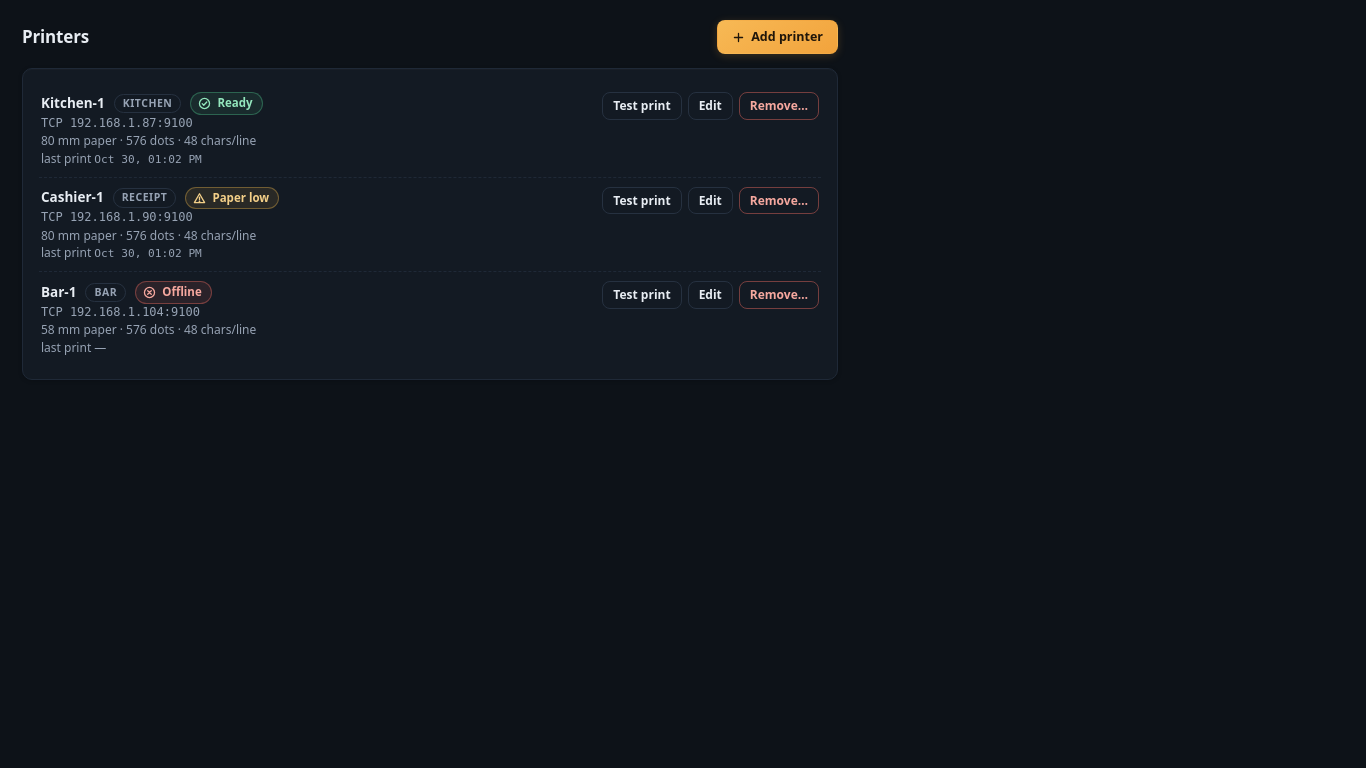
it: PrintersScreen › removes a printer after confirmation
Click the button "Remove…" in the row of "Kitchen-1" at (779, 106), box [739, 92, 819, 120]
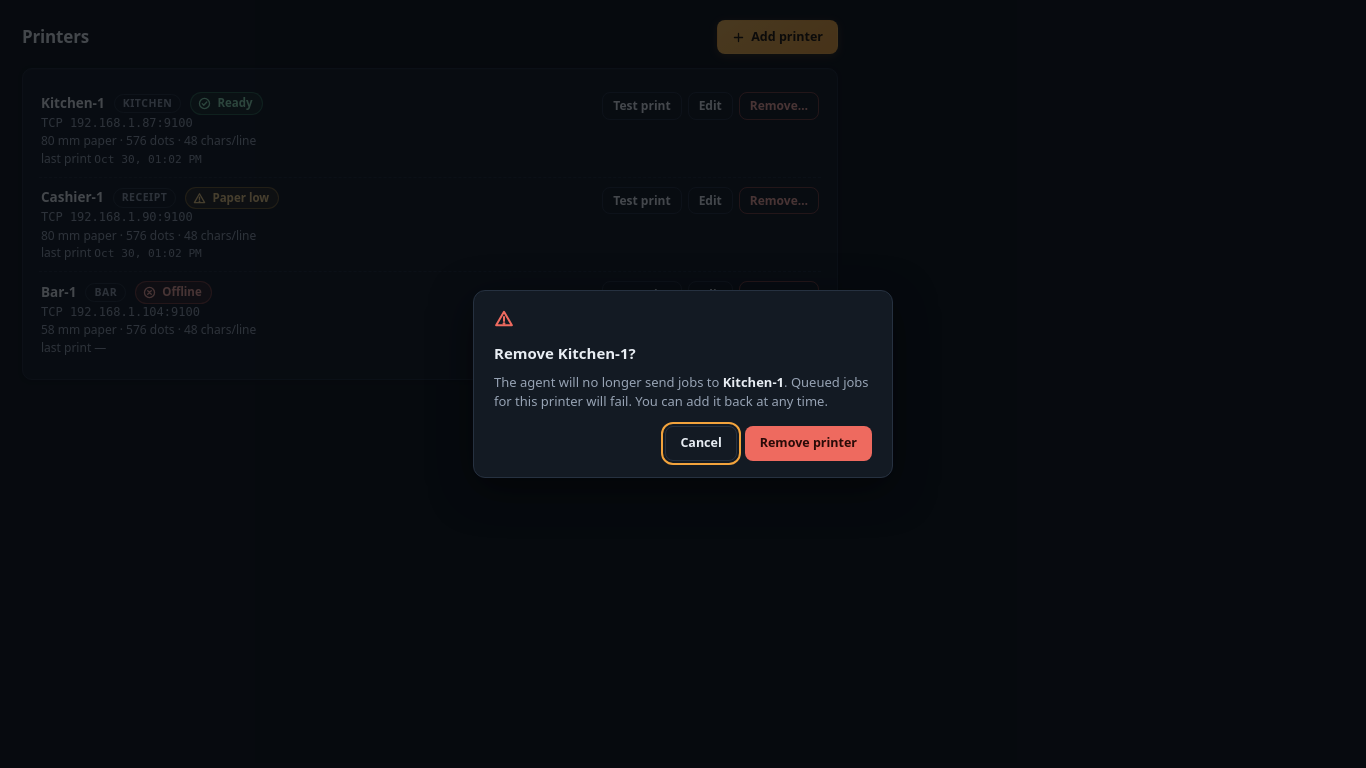
Click the button "Remove printer" at (808, 443), box [745, 426, 872, 460]
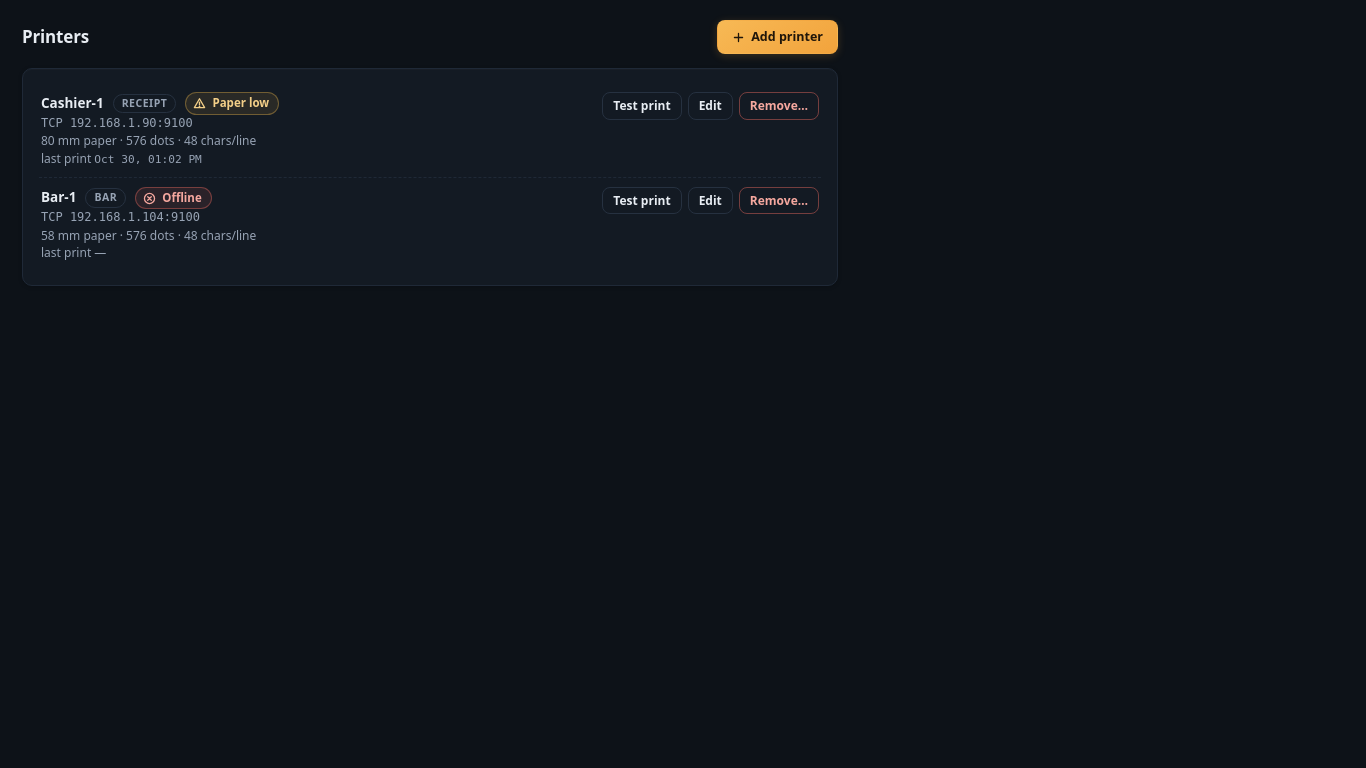
Expected: the text "Kitchen-1" is gone
